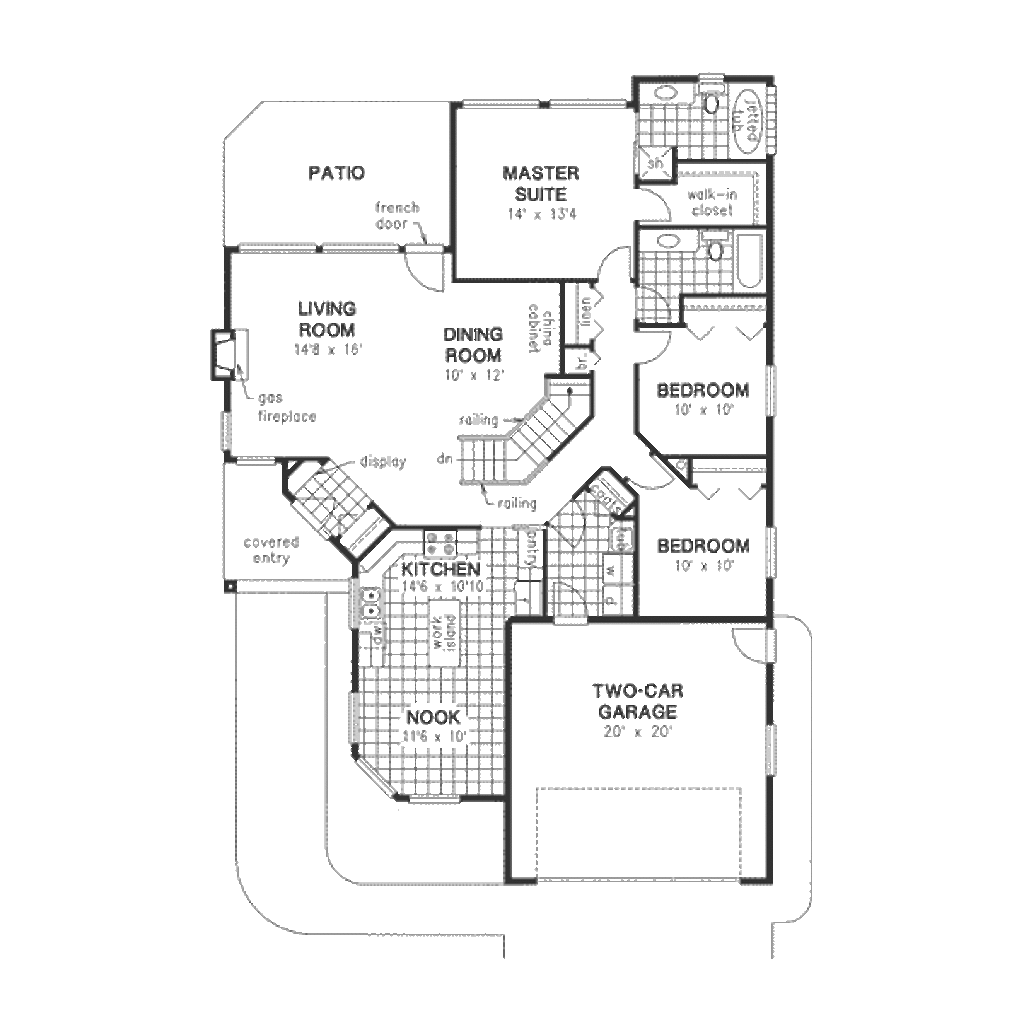door: (613, 438, 683, 494), (405, 238, 455, 297), (537, 500, 593, 551), (727, 618, 783, 664), (542, 579, 595, 627), (589, 240, 639, 281), (637, 324, 682, 366), (638, 187, 671, 225)
large_sink: (699, 72, 728, 119), (699, 225, 733, 261)
small_sink: (638, 226, 702, 252), (637, 83, 698, 107)
stairs: (444, 365, 597, 504)
tub: (733, 231, 764, 293)
twin_sink: (355, 583, 392, 624)
window: (229, 231, 322, 257), (347, 753, 396, 802), (539, 90, 628, 115), (404, 784, 466, 815), (755, 723, 785, 785), (226, 445, 288, 474), (212, 408, 244, 461), (758, 523, 787, 577), (455, 95, 547, 112), (759, 361, 783, 423), (343, 682, 362, 743)
